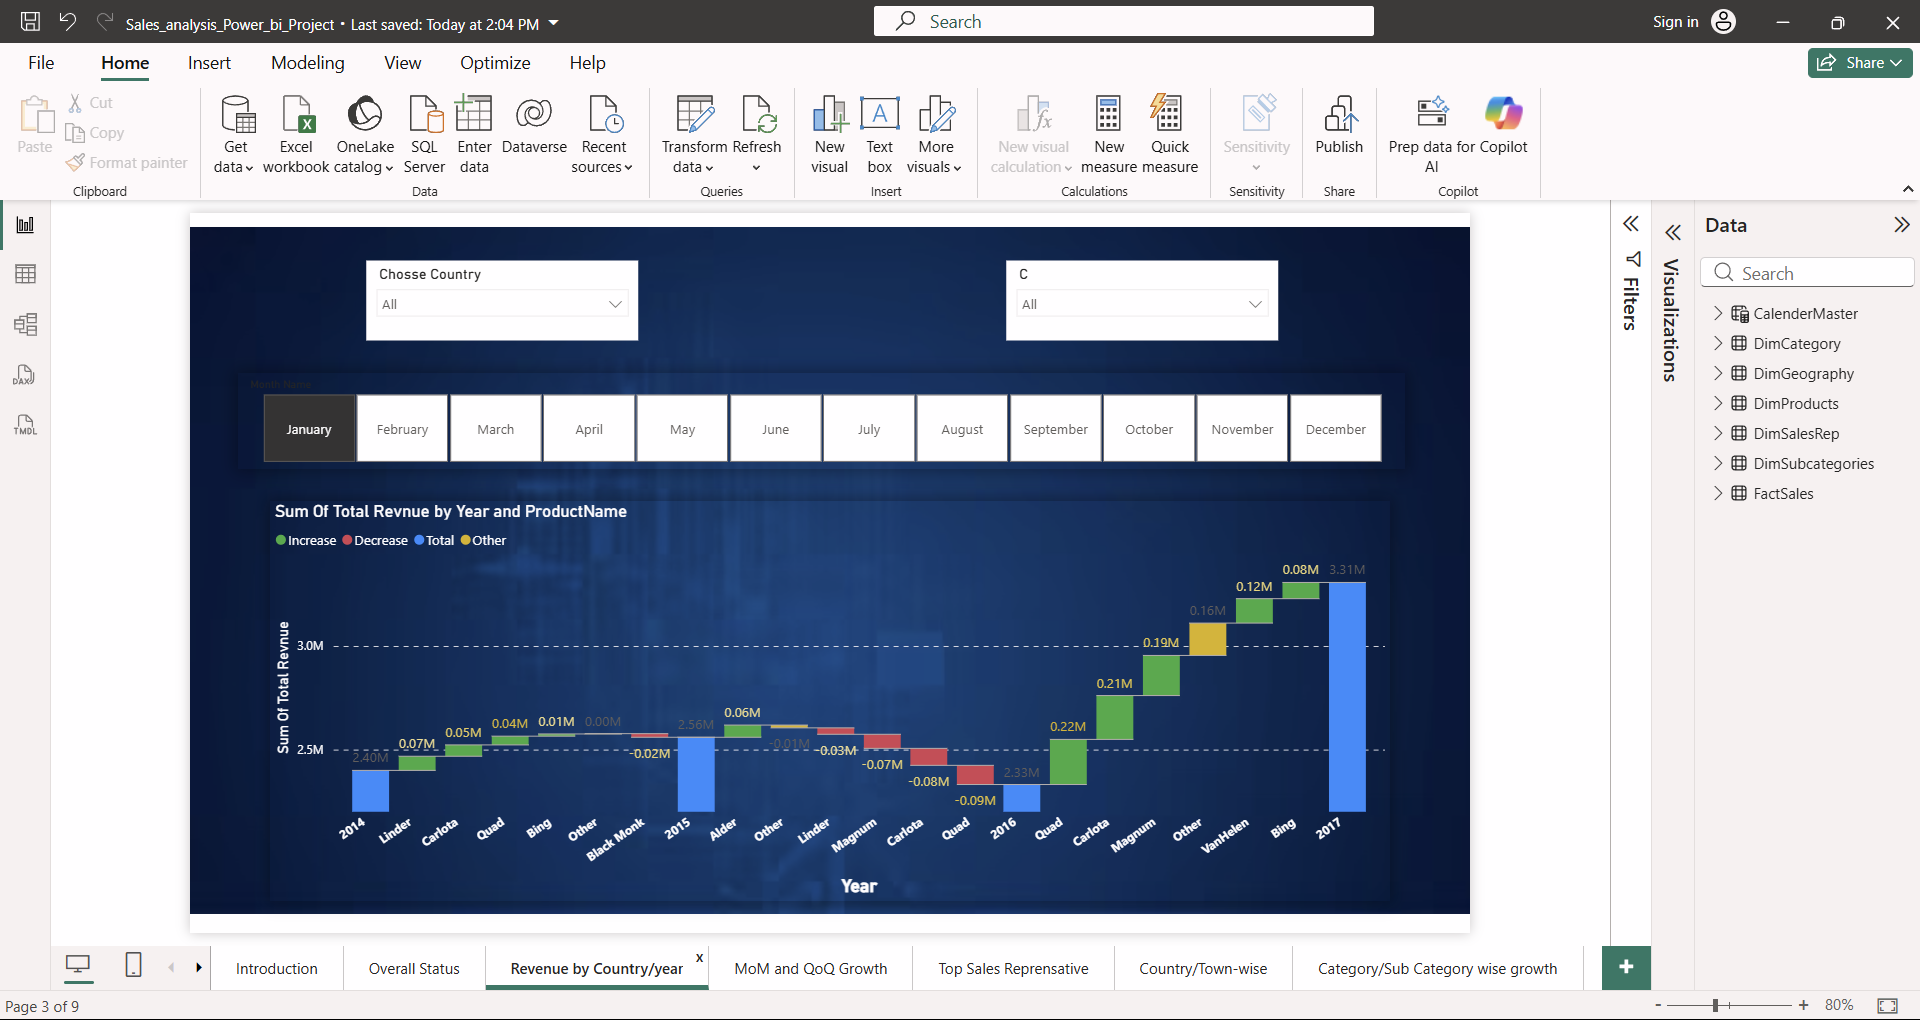

The page's visual inventory and layout, read from the dashboard file:
{"tool":"powerbi","page":{"name":"Revenue by Country/year","canvas":[1280,720],"ordinal":2},"visuals":[{"type":"waterfallChart","fields":{"Category":["CalenderMaster.Year"],"Y":["FactSales.Total Revenue"],"Breakdown":["DimProducts.ProductName"]},"box":[80,288,1120,400],"z":0},{"type":"slicer","fields":{"Values":["CalenderMaster.Month Name"]},"box":[48,160,1168,96],"z":1000},{"type":"slicer","fields":{"Values":["DimGeography.Country"]},"box":[176,48,272,80],"z":2000},{"type":"slicer","fields":{"Values":["CalenderMaster.Date.Variation.Date Hierarchy.Year"]},"box":[816,48,272,80],"z":3000}]}

Visuals, with their boxes on the page's 1280x720 design canvas (x1, y1, x2, y2). These are canvas units, not pixel positions in the 1920x1020 screenshot, which may show the page scaled, cropped or inside an application window:
waterfallChart - CalenderMaster.Year x FactSales.Total Revenue: <region>80, 288, 1200, 688</region>
slicer - CalenderMaster.Month Name: <region>48, 160, 1216, 256</region>
slicer - DimGeography.Country: <region>176, 48, 448, 128</region>
slicer - CalenderMaster.Date.Variation.Date Hierarchy.Year: <region>816, 48, 1088, 128</region>
